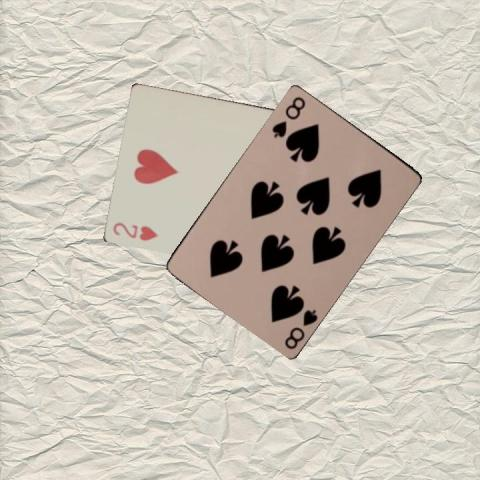2h: (110, 219, 159, 242)
8s: (281, 305, 319, 351), (269, 93, 306, 139)
